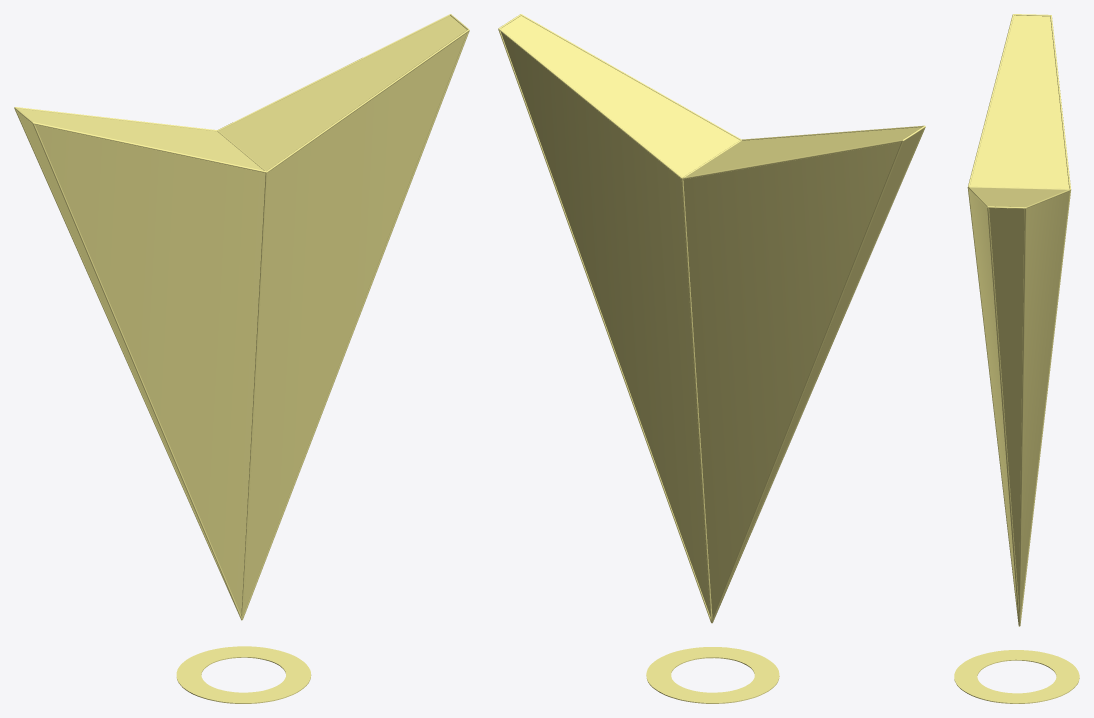
Rendered from huangDraco.gltf.
The picture shows the model from 3 angles, left to right: view 1: azimuth 30°, elevation 25°; view 2: azimuth 150°, elevation 25°; view 3: azimuth 270°, elevation 25°; orthographic projection. The views are drawn at different scales.
Visible parts, largest first — view 1: 水质_水文; view 2: 水质_水文; view 3: 水质_水文.
Part boxes in pixels (<box>): 水质_水文: <box>14,14,469,703</box>; 水质_水文: <box>498,14,925,703</box>; 水质_水文: <box>954,14,1079,703</box>.
Bounding box in the file's own units: 7.57 × 10.31 × 2.07.
